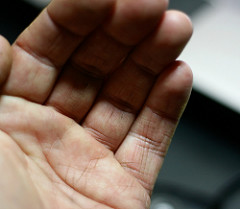palm: (1, 91, 121, 209)
